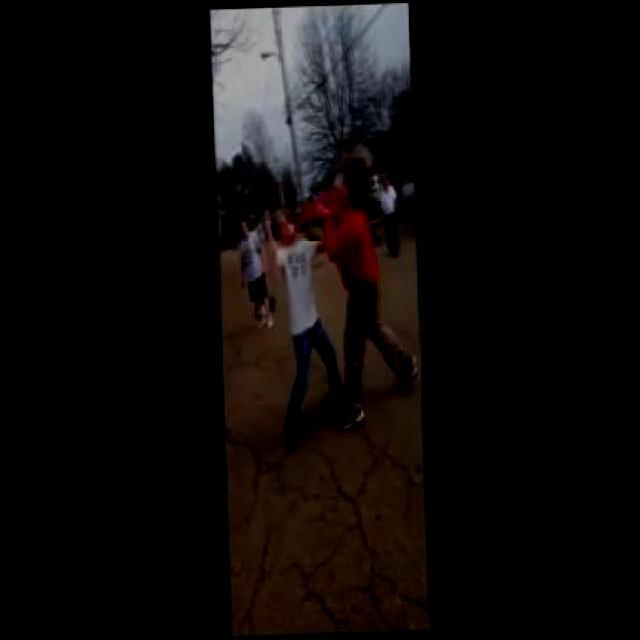fight: (270, 154, 404, 454)
